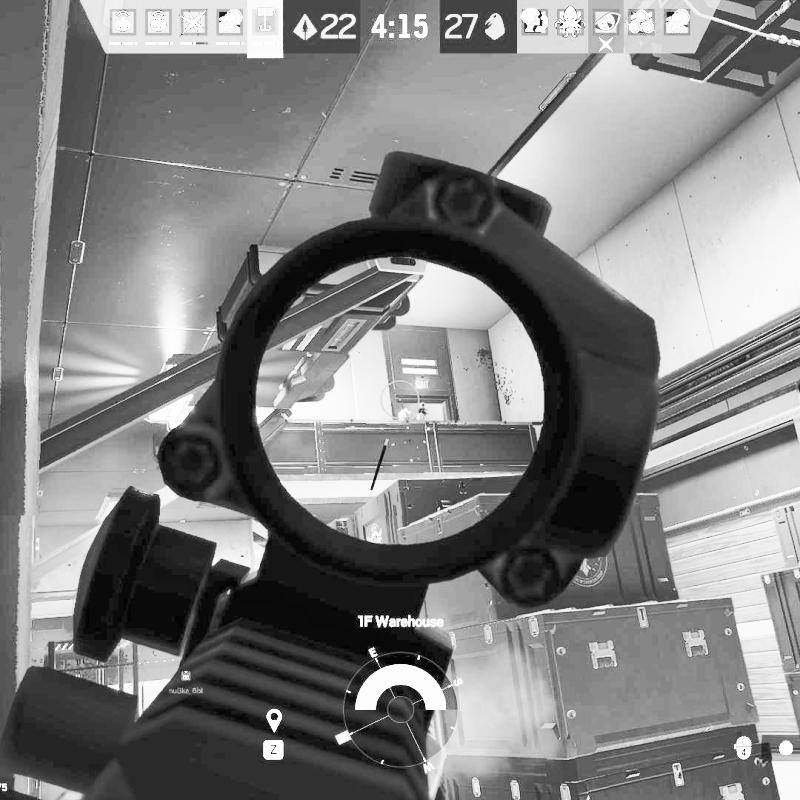Character: (415, 402, 430, 421)
Friend_label: (168, 668, 206, 694)
Head: (416, 403, 429, 420)
